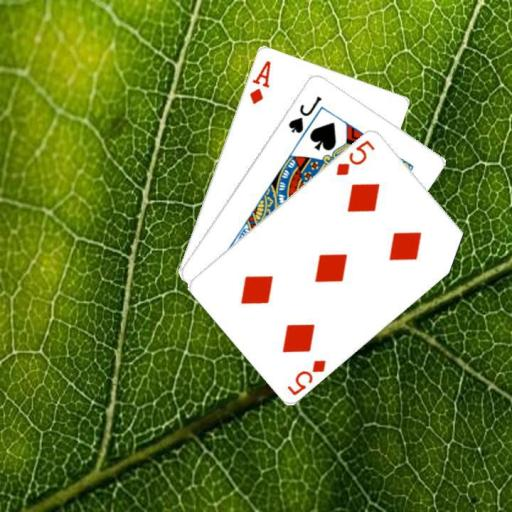5D: (333, 136, 377, 177), (284, 356, 328, 397)
AD: (246, 57, 272, 105)
JS: (284, 93, 323, 135)
